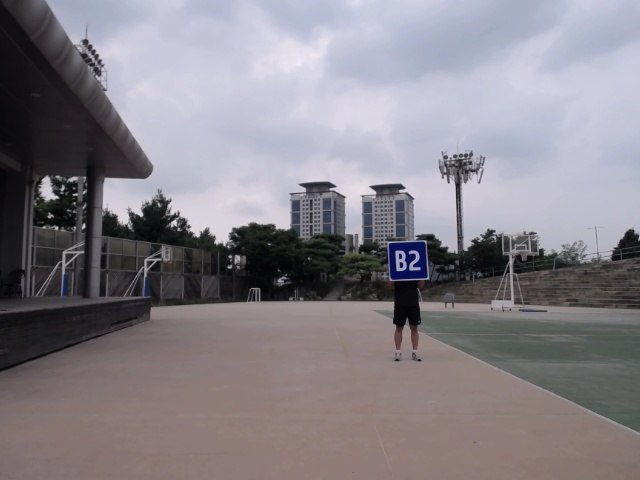delivery_b2: (388, 240, 430, 282)
